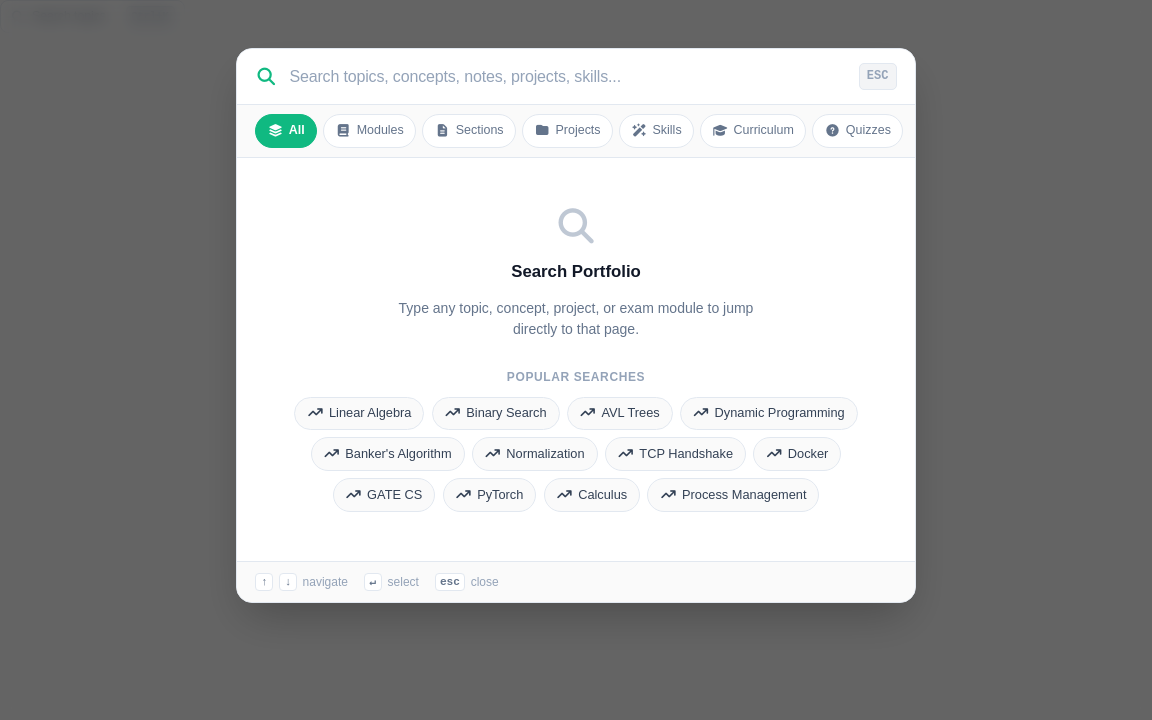
it: Search Feature Integration › searches and renders matching results with breadcrumbs and snippets
Type "Linear" into the field with placeholder "Search topics, concepts, notes, projects, skills...".
click(568, 76); type("Linear")  # box [289,64,847,89]
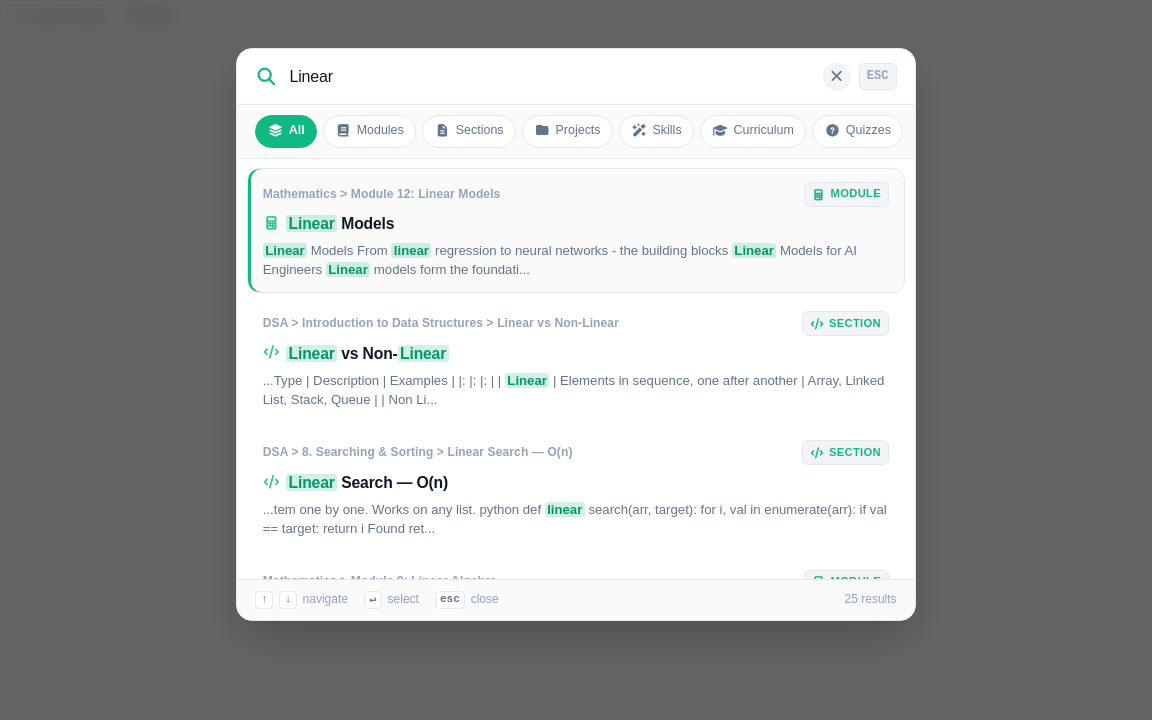
Expected: the option that starts with "Mathematics > Module 12: Linear Models" is shown, [247,168,905,293]
